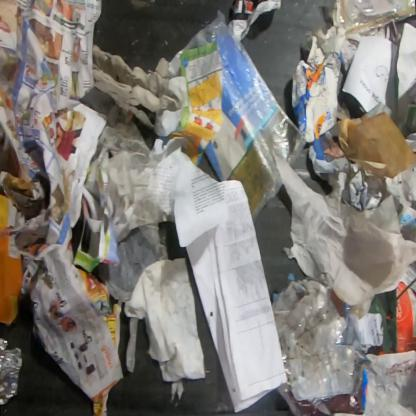cardboard: (92, 39, 190, 137), (290, 25, 362, 143), (0, 170, 49, 328), (337, 110, 415, 181), (395, 20, 416, 128)
metal: (0, 337, 25, 407)
soft_plastic: (168, 11, 308, 222), (78, 88, 172, 304), (272, 276, 372, 411), (330, 0, 415, 39), (124, 317, 140, 374)
